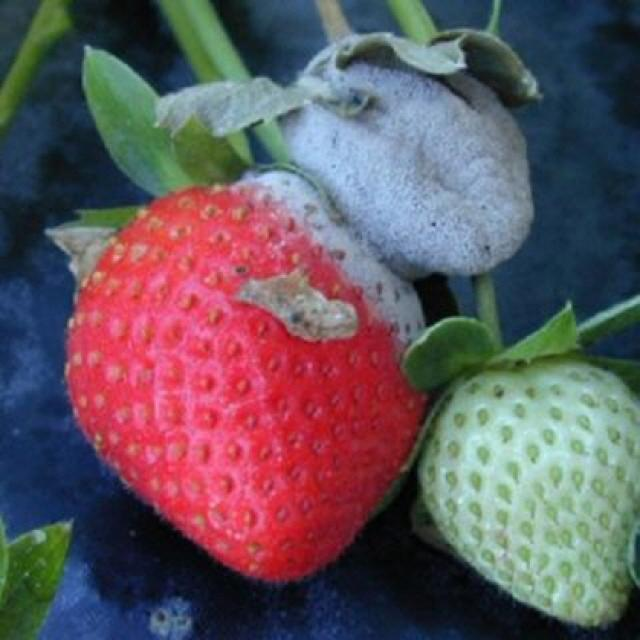Gray Mold: (64, 175, 430, 587), (153, 25, 550, 281)
